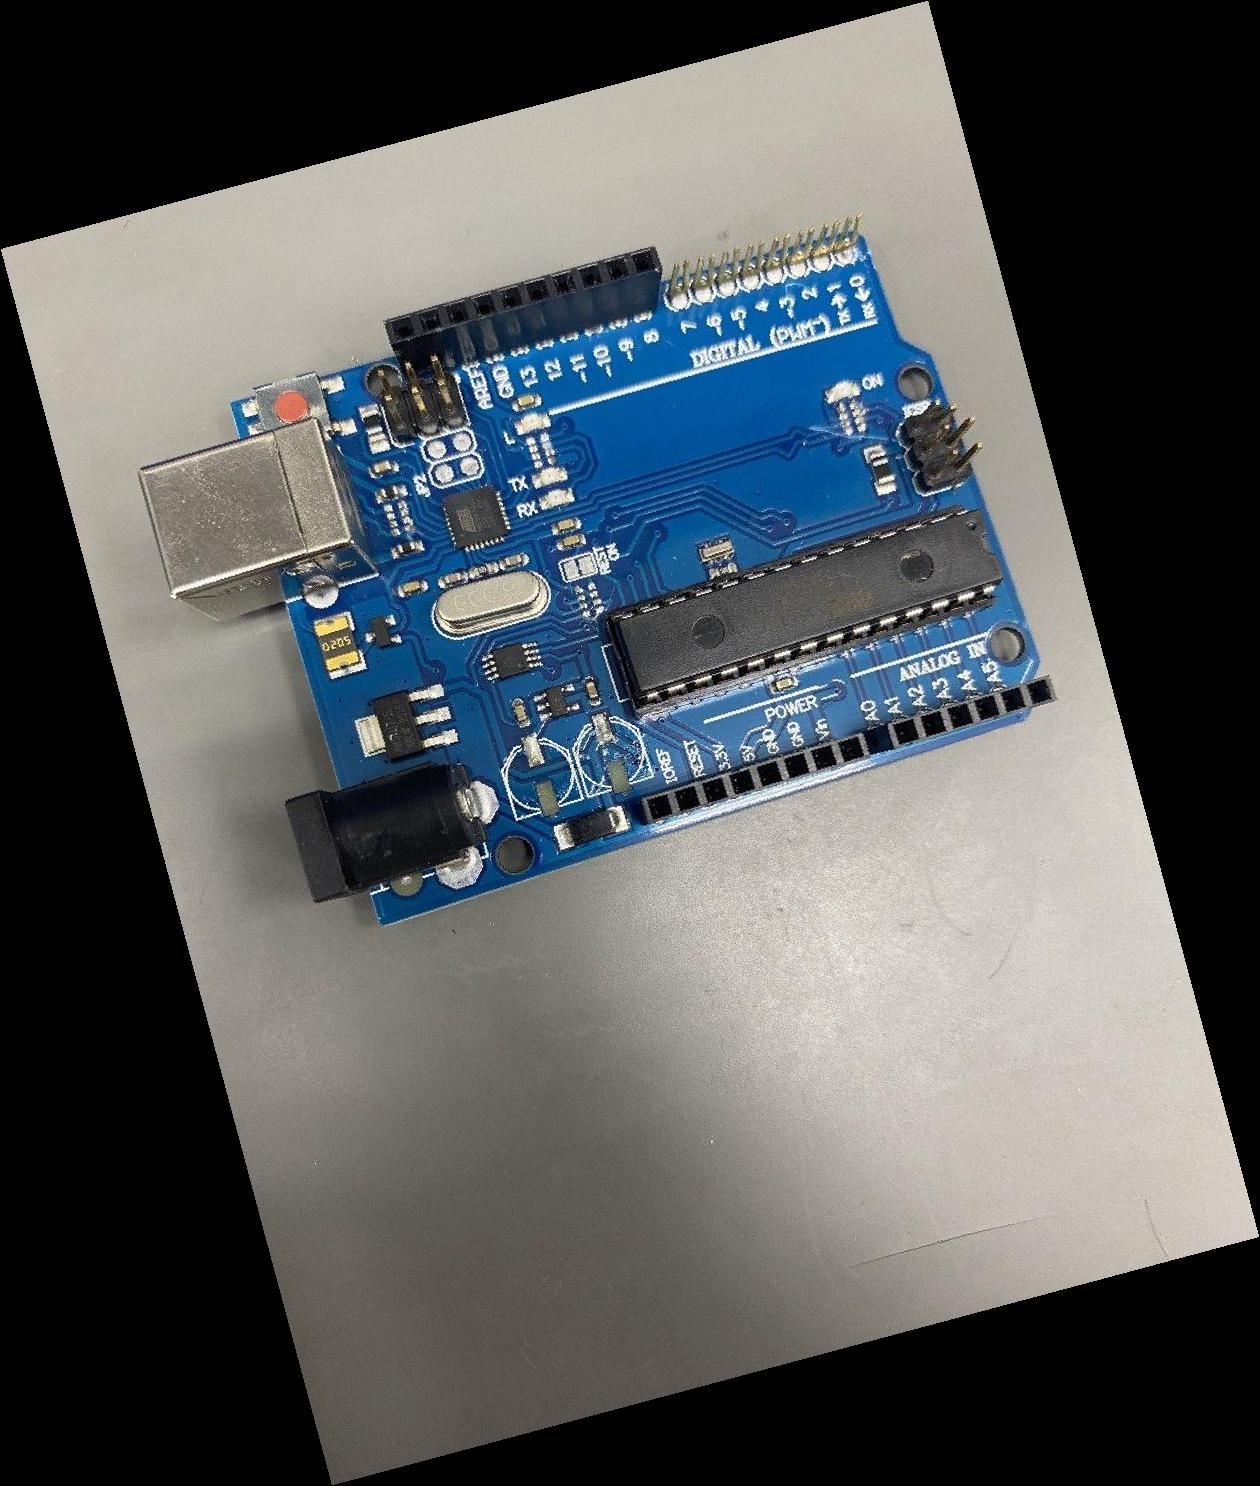ATmega328 chip: (605, 502, 1005, 721)
Arduino board: (135, 212, 1056, 927)
USB: (136, 417, 380, 625)
pins: (382, 245, 664, 380), (635, 731, 871, 825), (864, 674, 1057, 754)
